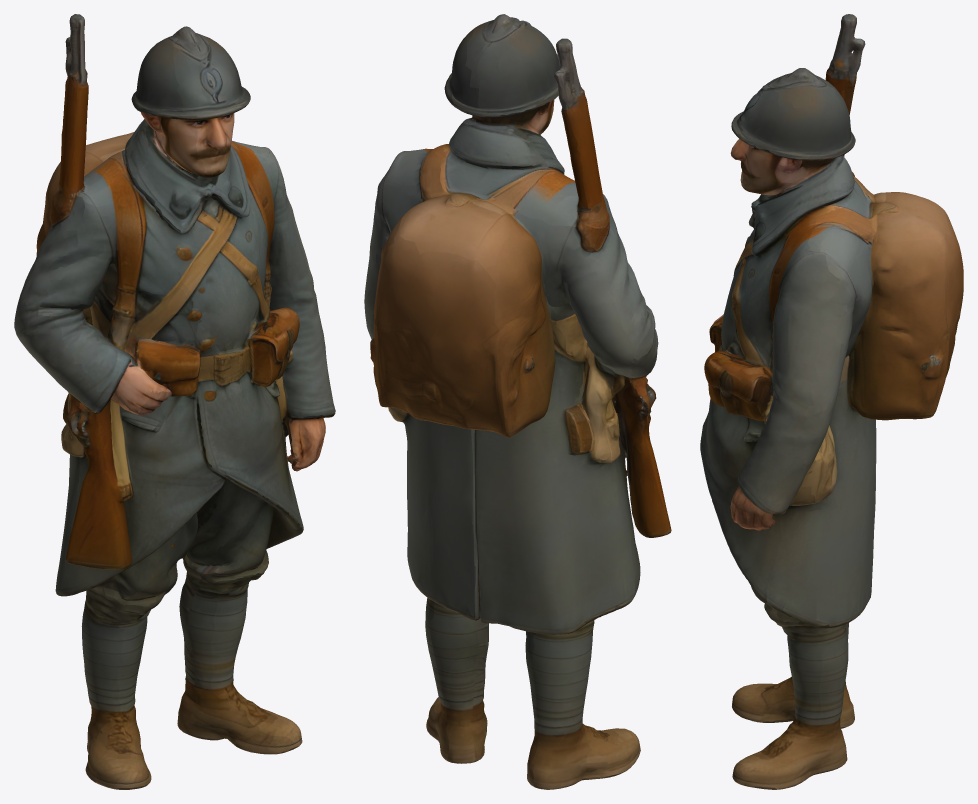
Rendered from ModernerFrenchSoldier.glb.
The picture shows the model from 3 angles, left to right: view 1: azimuth 30°, elevation 25°; view 2: azimuth 150°, elevation 25°; view 3: azimuth 270°, elevation 25°; orthographic projection. The views are drawn at different scales.
Parts seen in each view (by area): view 1: textured_mesh.obj; view 2: textured_mesh.obj; view 3: textured_mesh.obj.
Part boxes in pixels (x1,y1,x2,y2): textured_mesh.obj: (14,14,335,789); textured_mesh.obj: (364,14,671,789); textured_mesh.obj: (700,14,963,789).
Size of the model in its own units: 0.806 by 1.99 by 0.6842.
Materials: 1 (1 with a texture image).
